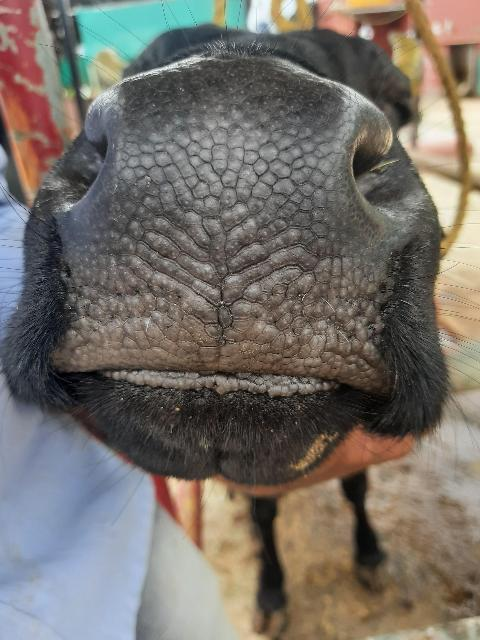Muzzle: (95, 84, 388, 382)
